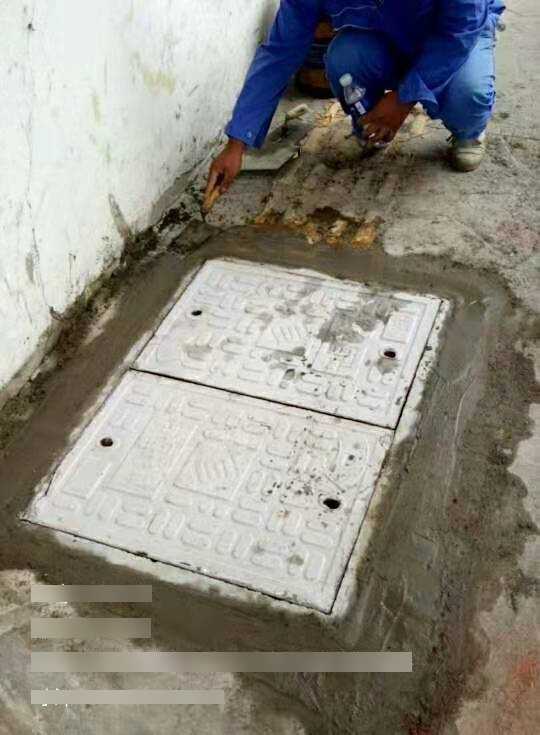good: (10, 253, 447, 617)
